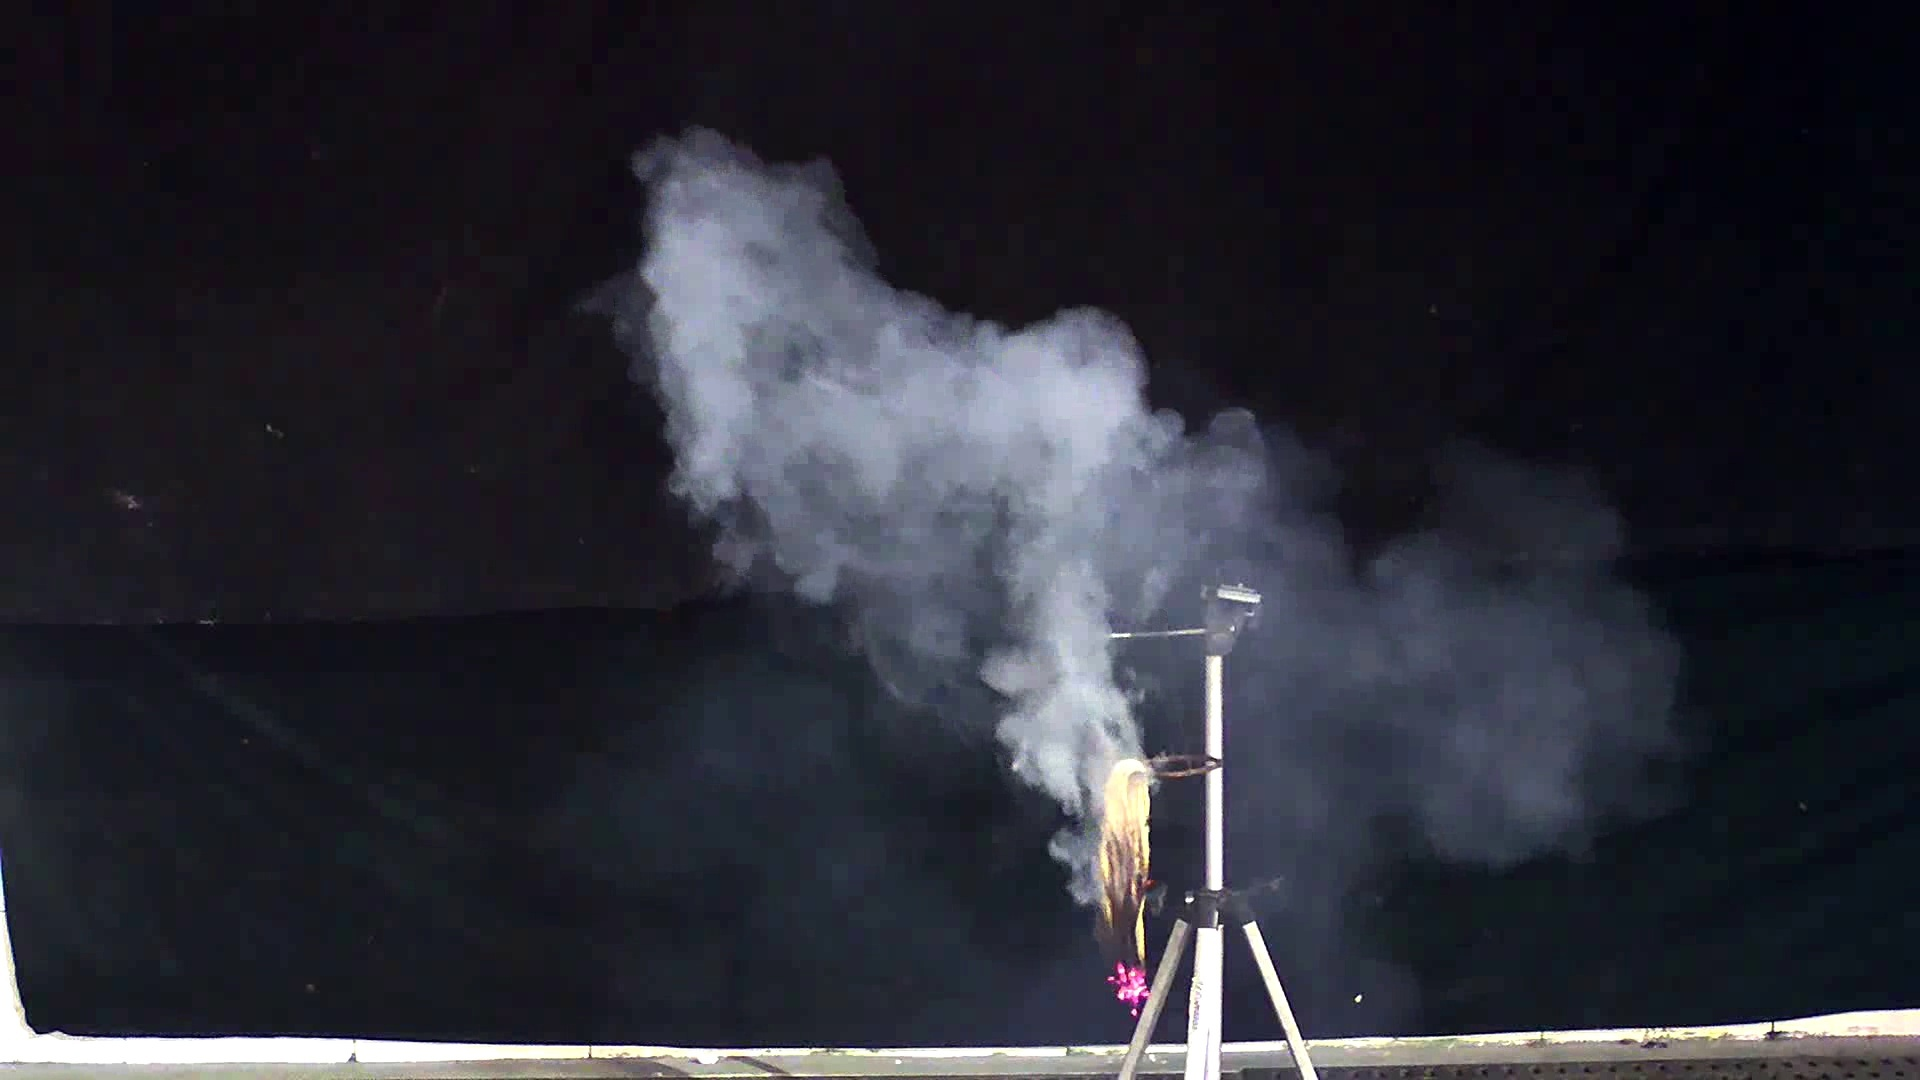smoke: (617, 128, 1687, 920)
